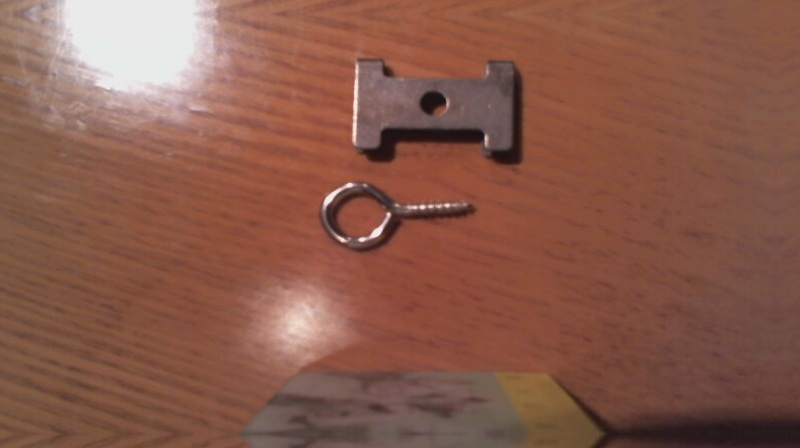O001: (314, 178, 480, 249)
O002: (347, 52, 523, 163)
